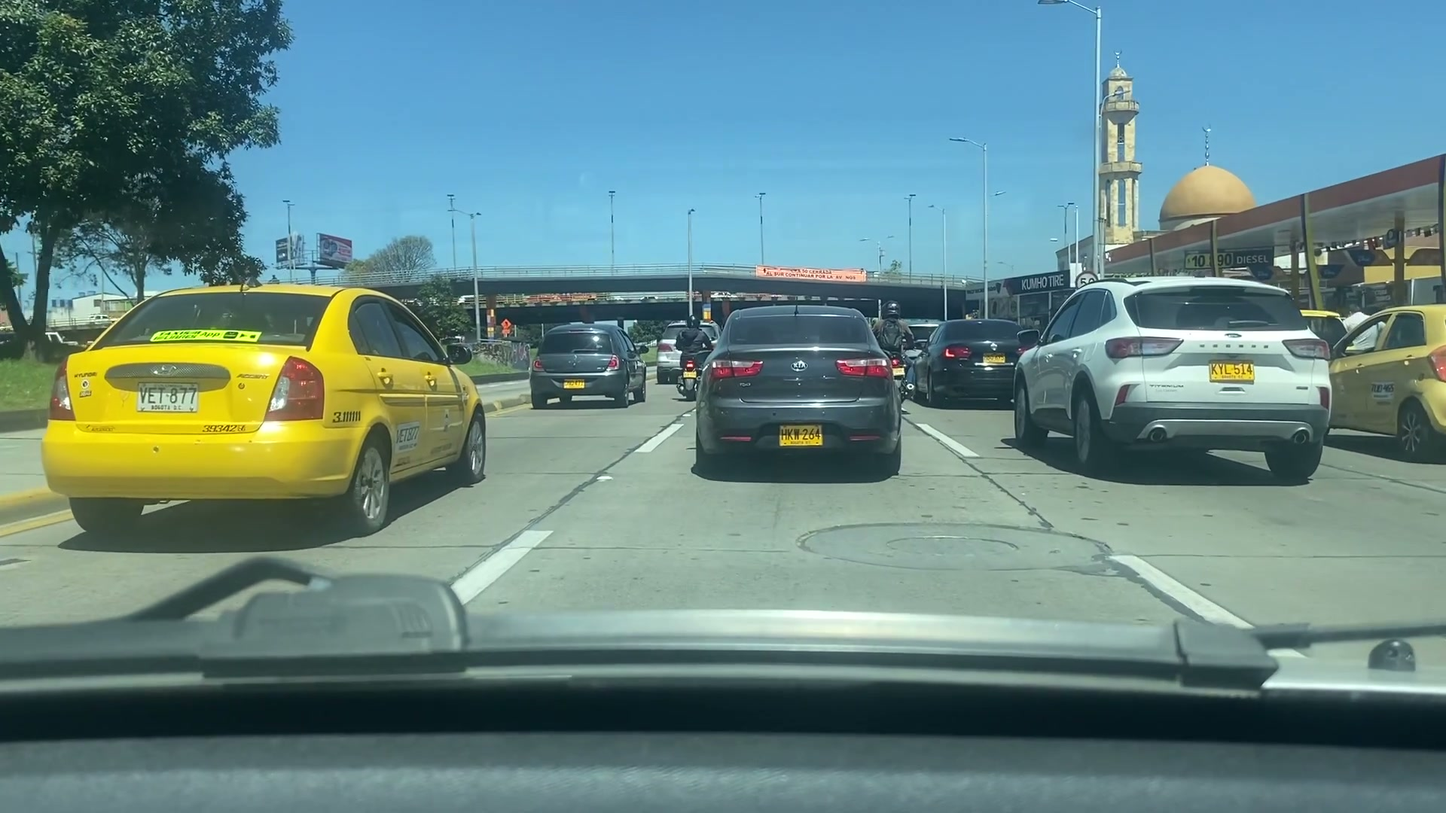car: (43, 287, 492, 531), (1009, 278, 1335, 482), (695, 302, 903, 473), (1316, 302, 1446, 445), (905, 318, 1038, 401), (528, 324, 649, 404), (656, 316, 723, 385)
motorcycle: (884, 354, 913, 406), (675, 351, 704, 398)
person: (870, 294, 913, 396), (682, 316, 705, 391)
